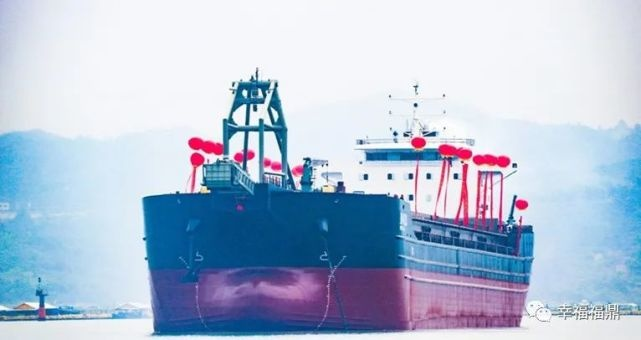Cargoship: (120, 56, 537, 339)
